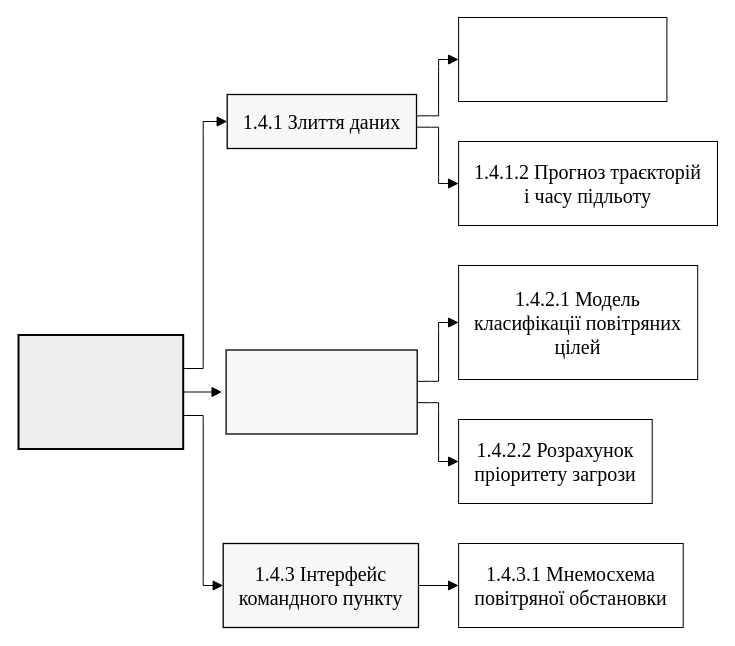
Image size: 735x646. Some labels were removed from this diagram. Here are the shapes that lost their labels. From the top down, the centre of each, then its label:
At pixel 562 59: "1.4.1.1 Сервіс злиття виявлень у треки".
At pixel 100 392: "1.4 Підсистема ситуаційної обізнаності".
At pixel 321 391: "1.4.2 Класифікація та оцінка загрози".
